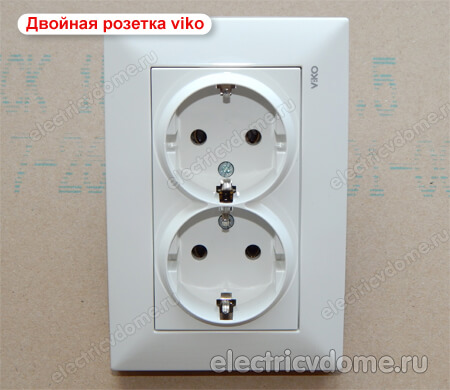raccoon: (162, 79, 291, 206), (163, 206, 289, 324)
